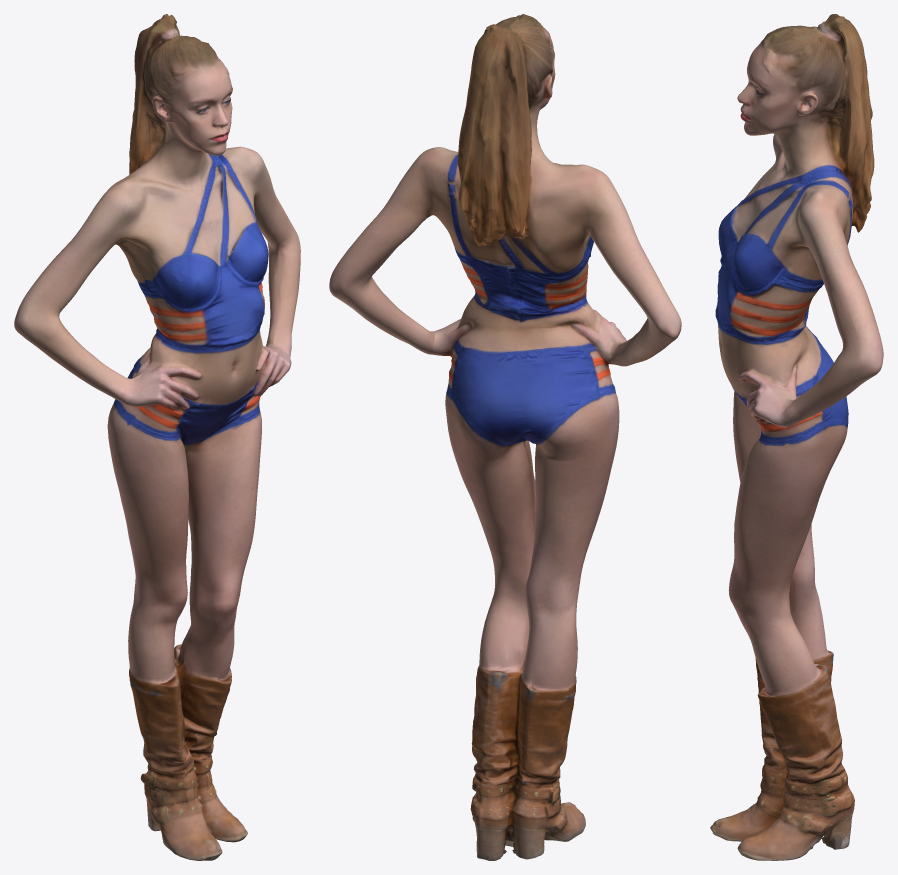
File: girl.fbx
The picture shows the model from 3 angles, left to right: view 1: azimuth 30°, elevation 25°; view 2: azimuth 150°, elevation 25°; view 3: azimuth 270°, elevation 25°; orthographic projection. The views are drawn at different scales.
Visible parts, largest first — view 1: Sexy Woman in Blue and Orange Swimsuit Bikini Posing 1.Shape; view 2: Sexy Woman in Blue and Orange Swimsuit Bikini Posing 1.Shape; view 3: Sexy Woman in Blue and Orange Swimsuit Bikini Posing 1.Shape.
Boxes of the visible parts, <box> form: Sexy Woman in Blue and Orange Swimsuit Bikini Posing 1.Shape: <box>14,14,300,860</box>; Sexy Woman in Blue and Orange Swimsuit Bikini Posing 1.Shape: <box>329,14,681,860</box>; Sexy Woman in Blue and Orange Swimsuit Bikini Posing 1.Shape: <box>710,14,883,860</box>.
Bounding box in the file's own units: 68.11 × 170 × 32.3.
Materials: 1 (1 with a texture image).
